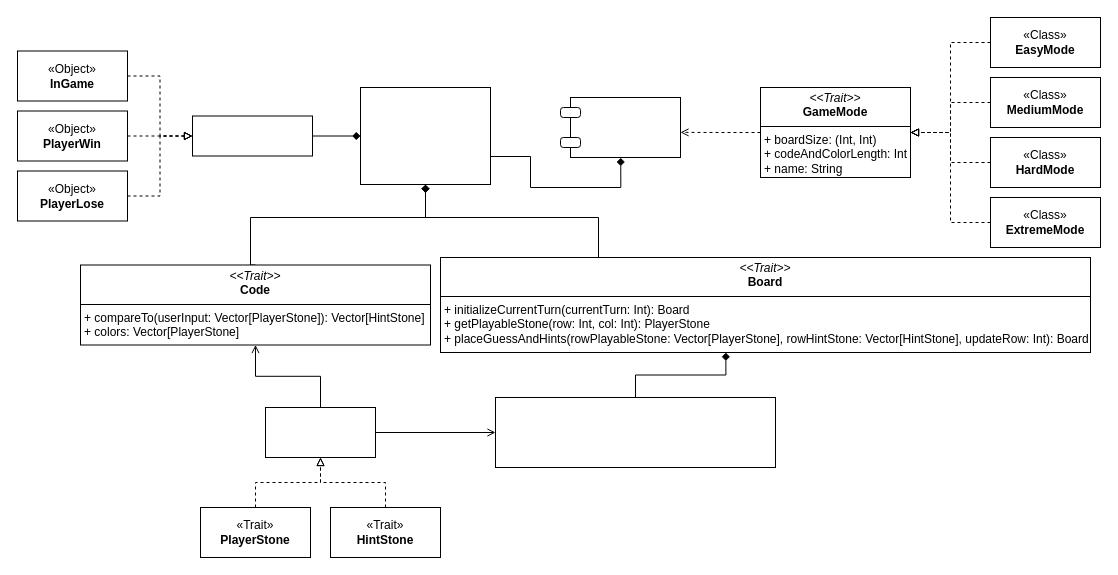
This 1118x575 diagram has some shape labels left out. The shapes that lost their labels are listed below. From the top down, each one's centre as x and y in pixels, then its label:
the point at 252,135: <<Trait>> GameState
the point at 425,135: <<Trait>> Game + resetGame: Game + remainingTurns: Int + state: GameState
the point at 625,127: Model Module
the point at 320,432: «Trait» Stone
the point at 635,432: <<Trait>> Matrix + replaceRow(row: Int, col: Int, cell: T): Matrix<T>
